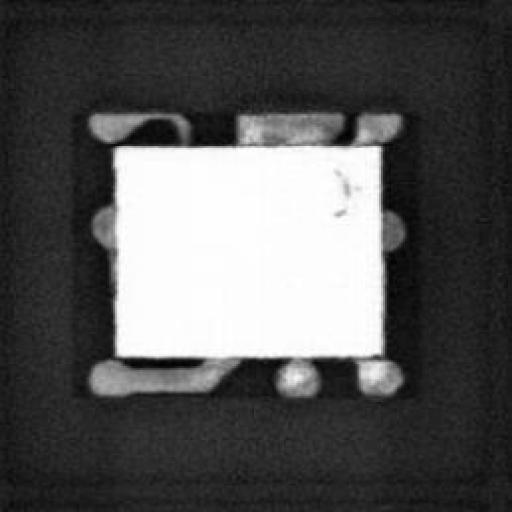DIE_INK: (330, 165, 352, 193), (330, 203, 348, 214)
